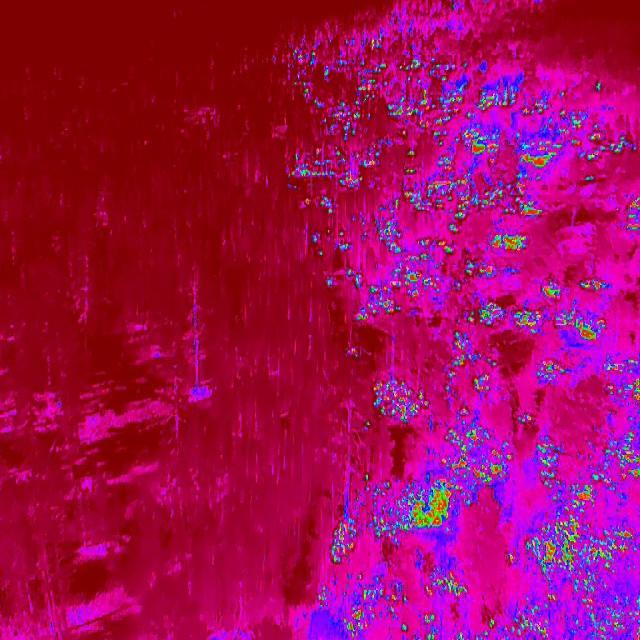fire: (324, 234, 610, 348), (286, 20, 469, 148), (469, 84, 640, 172), (519, 474, 640, 585), (440, 343, 521, 493), (384, 163, 548, 234), (283, 146, 387, 217), (515, 582, 640, 640), (367, 480, 471, 548), (320, 573, 410, 637), (367, 374, 434, 431), (604, 413, 640, 482), (323, 512, 358, 564), (445, 610, 505, 640), (605, 357, 640, 403), (524, 355, 572, 387), (424, 570, 471, 601), (532, 439, 556, 483), (514, 407, 540, 435), (418, 611, 440, 640), (628, 194, 640, 235)
